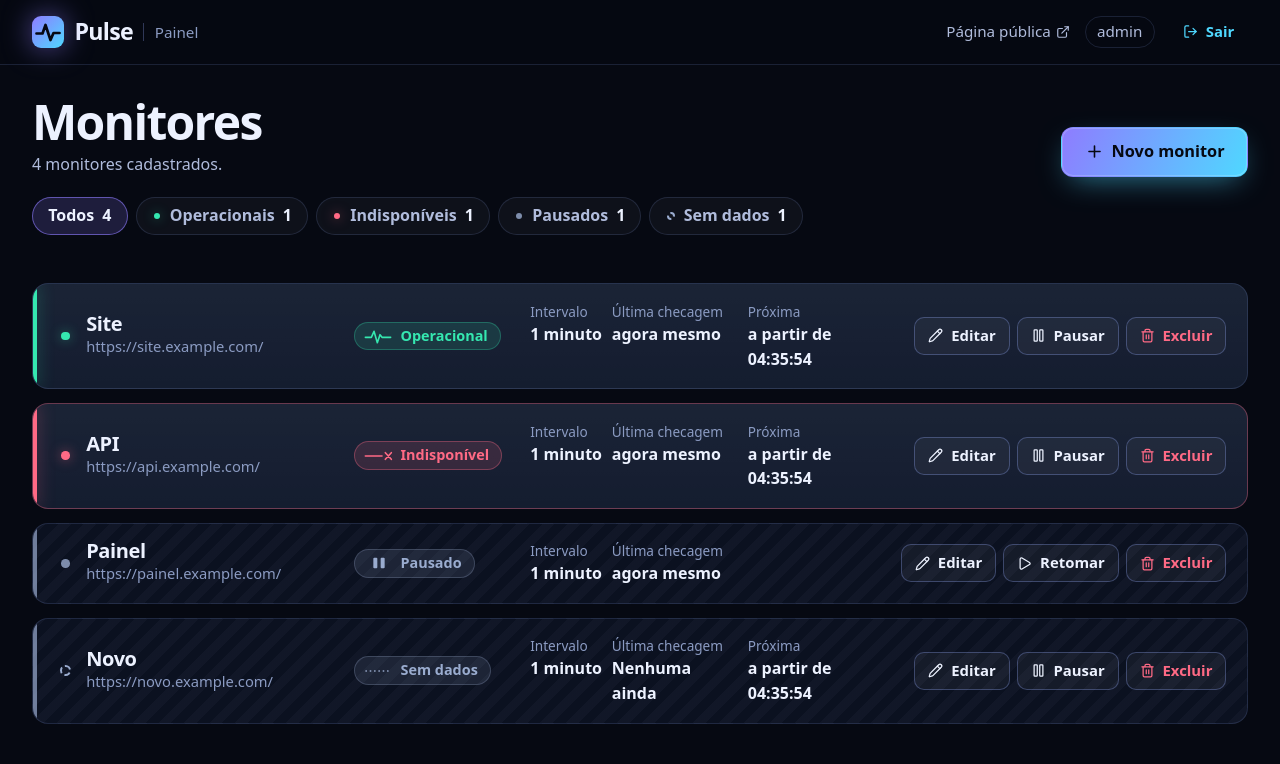
Test: pausar, retomar e excluir › 404 numa operação (já foi excluído em outro lugar): explica e atualiza a lista
Expected: the element "Site" is shown, x1=32 y1=283 x2=1248 y2=389
Click the button with aria-label "Pausar Site" at [1068, 336], box x1=1017 y1=317 x2=1118 y2=355
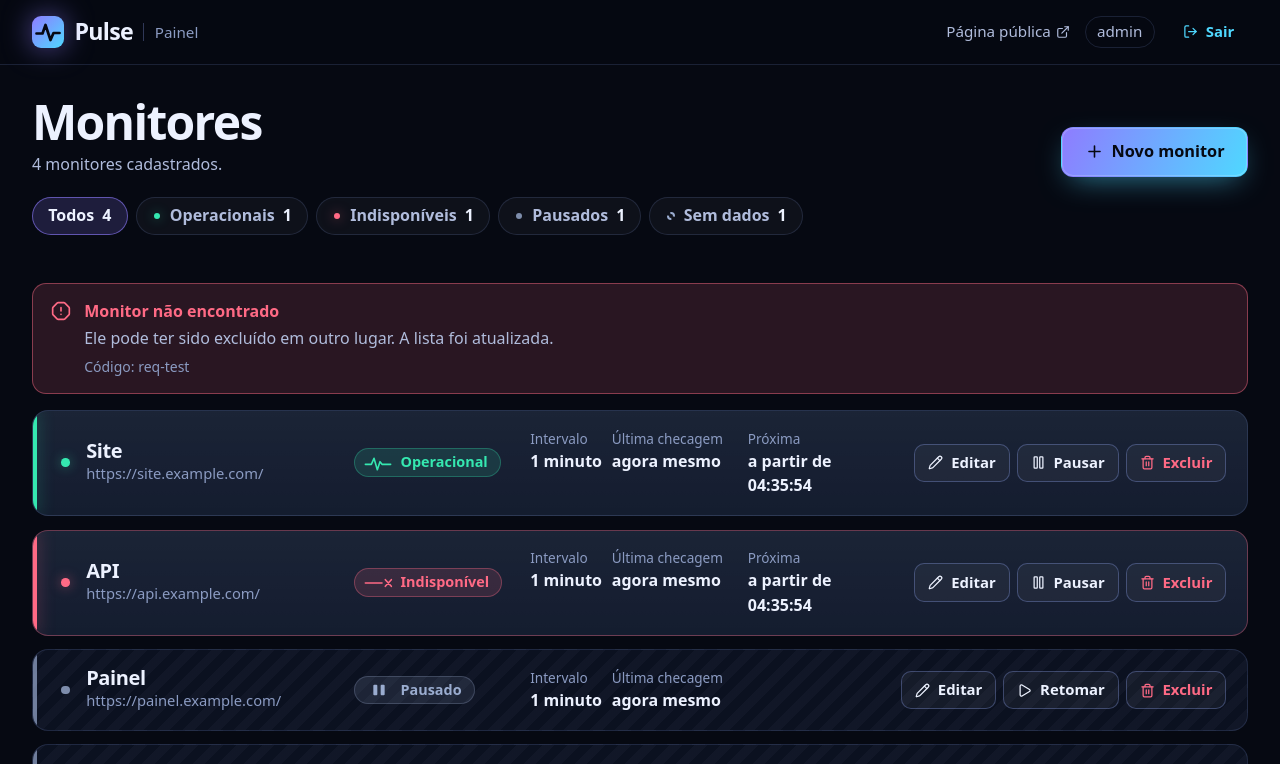
Result: the text "Monitor não encontrado" is shown at x1=84 y1=300 x2=279 y2=322
